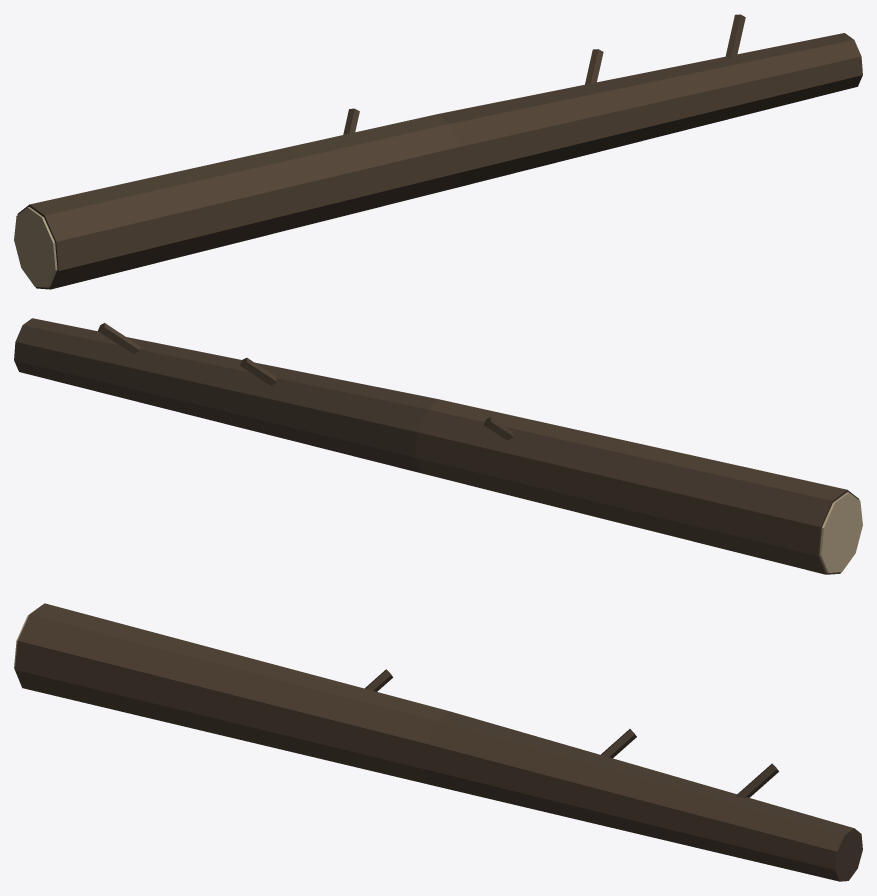
Rendered from walk_prop_felled_log.glb.
The picture shows the model from 3 angles, top to bottom: view 1: azimuth 30°, elevation 25°; view 2: azimuth 150°, elevation 25°; view 3: azimuth 330°, elevation 25°; orthographic projection.
Visible parts, largest first — view 1: walk_prop_felled_log; view 2: walk_prop_felled_log; view 3: walk_prop_felled_log.
Boxes of the visible parts, x1=… form: walk_prop_felled_log: x1=14, y1=14, x2=862, y2=289; walk_prop_felled_log: x1=14, y1=318, x2=862, y2=574; walk_prop_felled_log: x1=14, y1=603, x2=862, y2=881.
Size of what is drawn, in the model's own units: 8.02 by 0.8173 by 0.7485.
Materials: 1 (1 with a texture image).
